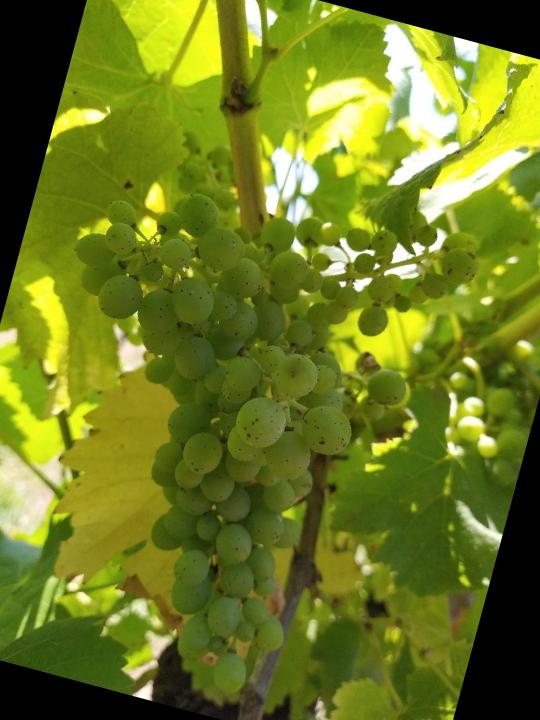grape: (0, 128, 489, 720)
